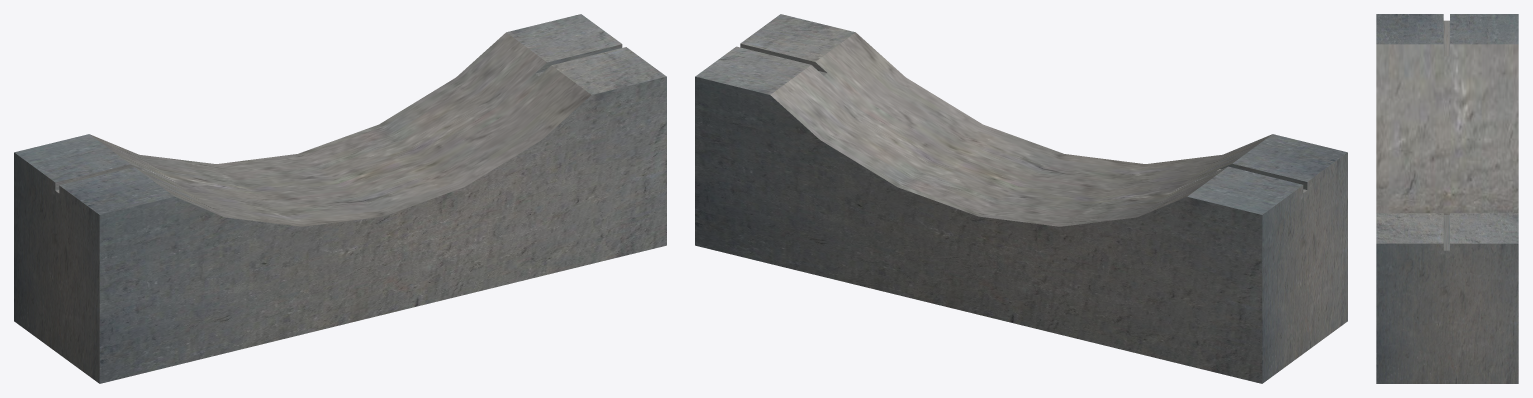
Rendered from 汉代石架.FBX.
3 views of the same model, side by side, from view 1: azimuth 30°, elevation 25°; view 2: azimuth 150°, elevation 25°; view 3: azimuth 270°, elevation 25° (orthographic). The views are drawn at different scales.
Visible parts, largest first — view 1: Box002; view 2: Box002; view 3: Box002.
Boxes of the visible parts, left/top/right/bottom form: Box002: left=14, top=14, right=666, bottom=383; Box002: left=695, top=14, right=1347, bottom=383; Box002: left=1376, top=14, right=1518, bottom=383.
Size of the model in its own units: 26.72 by 7.61 by 6.99.
